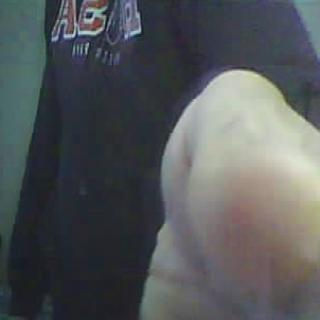HOSA Hoodie: (5, 0, 296, 310)
